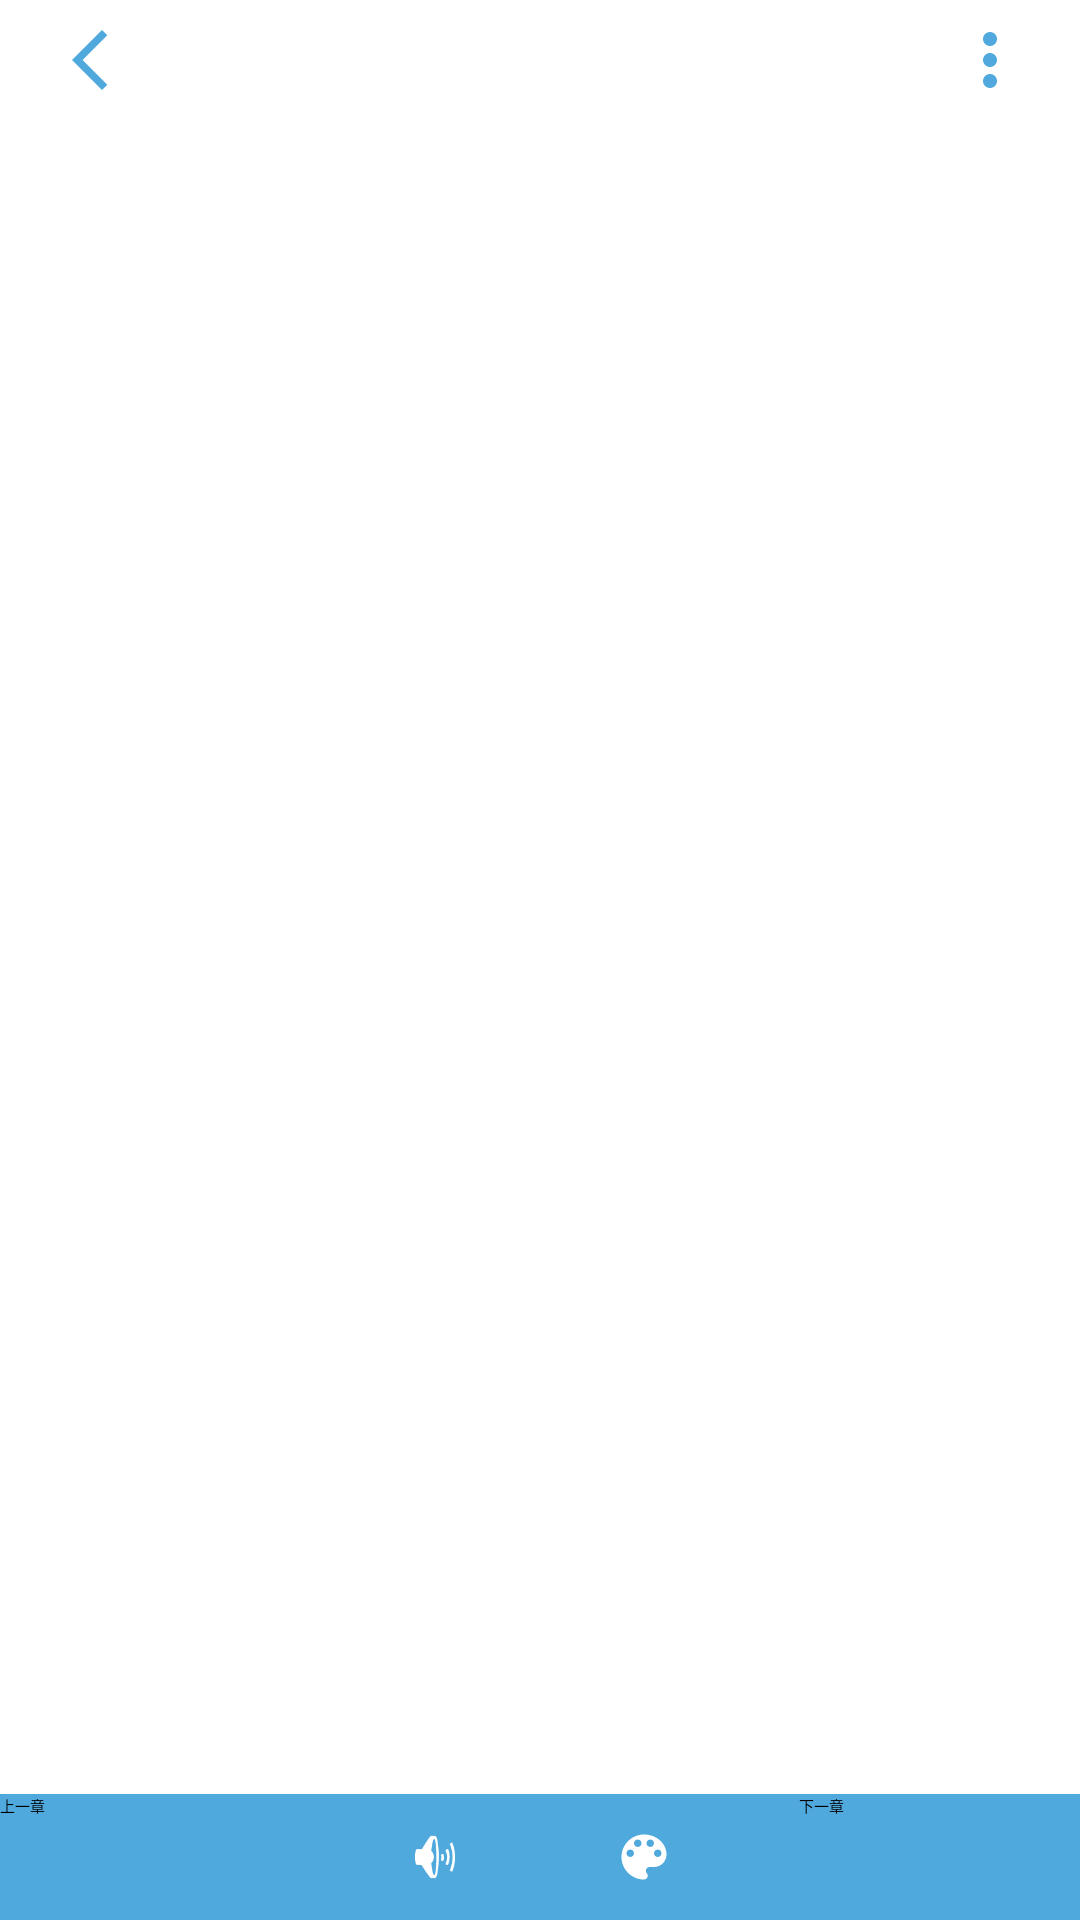

Point at icon controls on the screen. Image size 1080x1920, points as point (x, y).
back: point (89, 60)
lock silent mode off: point (435, 1857)
more: point (990, 60)
